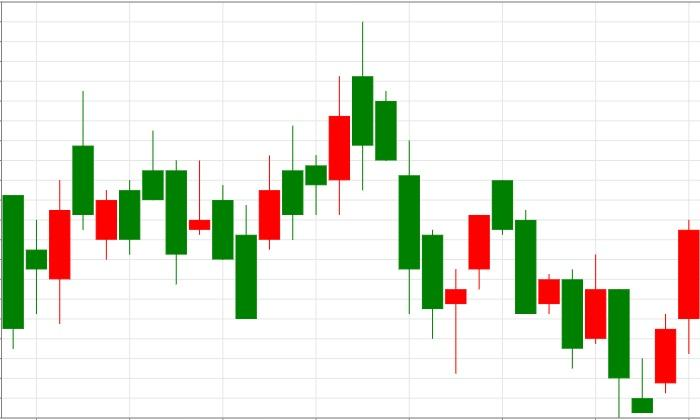morning_star_rise: (492, 180, 676, 419)
